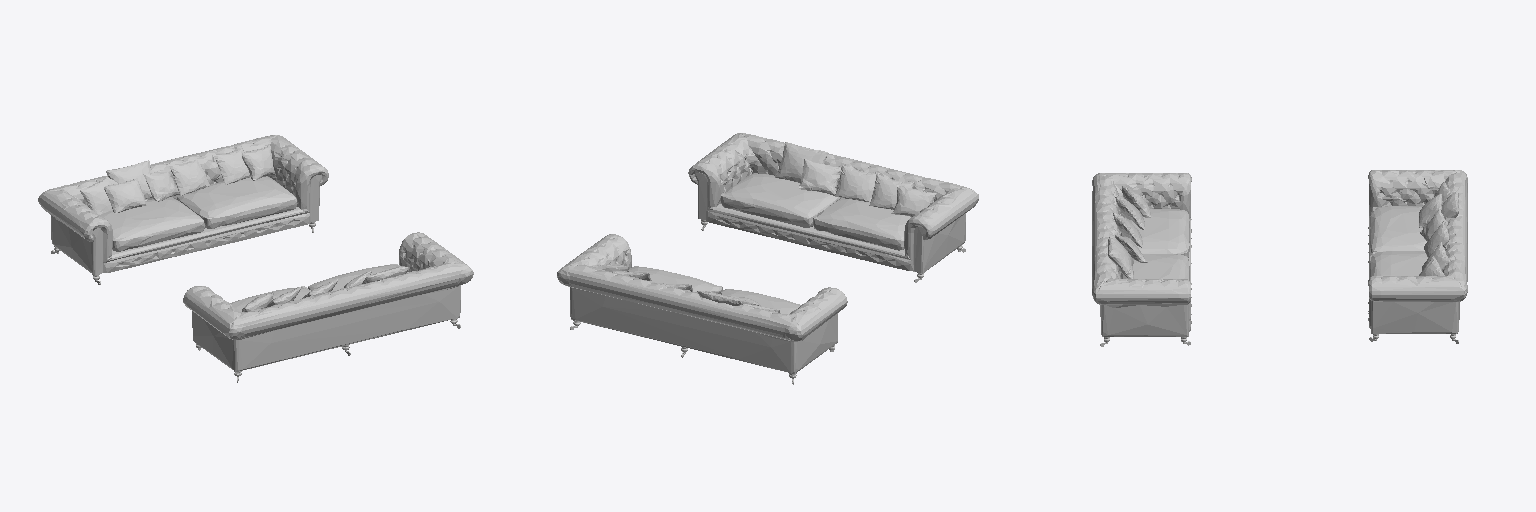
File: muebles2.obj
3 renders of one model, left to right at view 1: azimuth 30°, elevation 25°; view 2: azimuth 150°, elevation 25°; view 3: azimuth 270°, elevation 25°, orthographic.
Visible parts, largest first — view 1: Object_197, Object_219, Object_206, Object_212, Object_204, Object_200, Object_208, Object_210, Object_202; view 2: Object_219, Object_197, Object_234, Object_230, Object_232, Object_222, Object_226; view 3: Object_197, Object_219, Object_230.
Part boxes in pixels (x1,y1,x2,y2): Object_197: (38,135,328,284); Object_219: (183,232,473,382); Object_206: (104,178,146,213); Object_212: (169,160,210,195); Object_204: (214,146,250,184); Object_200: (242,145,274,180); Object_208: (106,160,151,198); Object_210: (143,170,179,201); Object_202: (80,177,112,214); Object_219: (688,133,978,282); Object_197: (557,234,847,384); Object_234: (835,165,879,201); Object_230: (775,142,827,182); Object_232: (799,159,840,195); Object_222: (891,185,936,216); Object_226: (869,174,914,209); Object_197: (1368,170,1467,343); Object_219: (1092,173,1191,346); Object_230: (1108,233,1133,278).
Bounding box in the file's own units: 3.26 × 0.878 × 4.21.